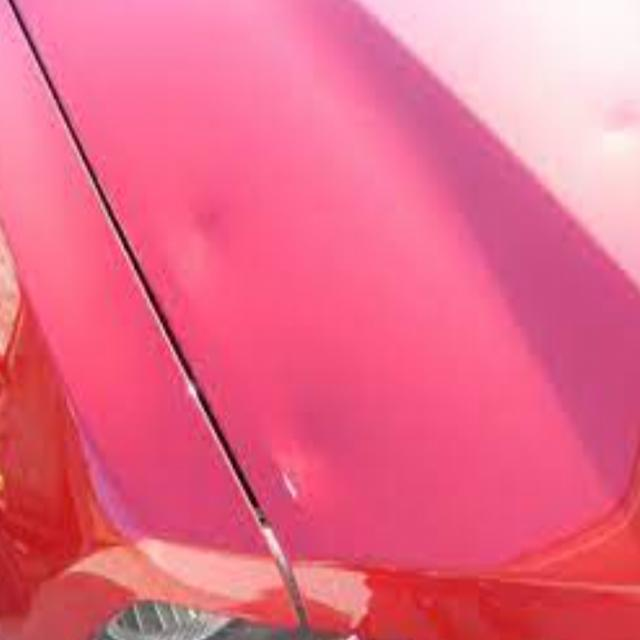dents: (177, 194, 243, 304), (266, 425, 327, 520), (595, 77, 634, 161)
